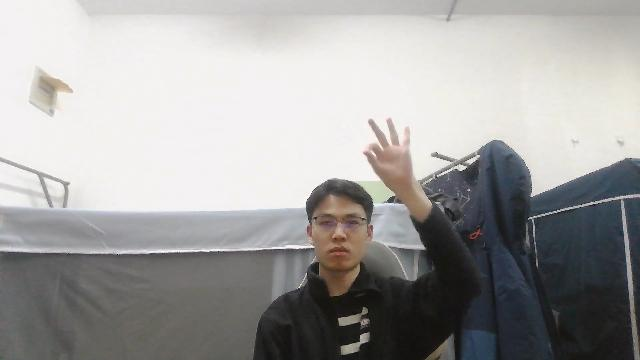ok: (360, 113, 419, 196)
